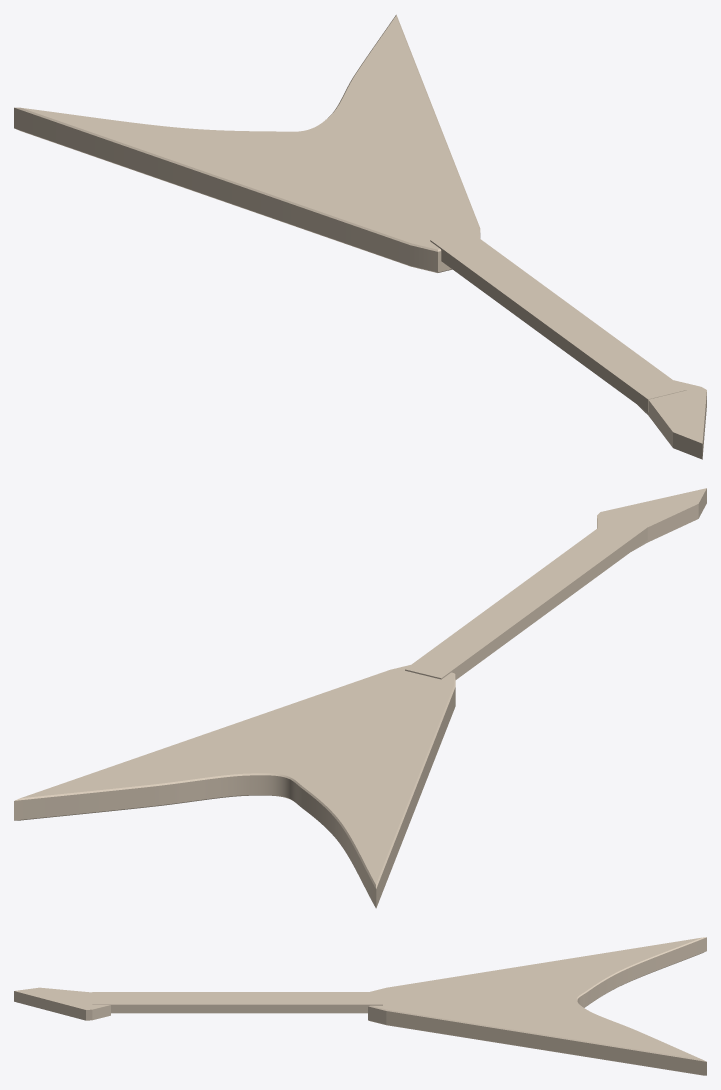
3 renders of one model, top to bottom at view 1: azimuth 30°, elevation 25°; view 2: azimuth 150°, elevation 25°; view 3: azimuth 270°, elevation 25°, orthographic. The views are drawn at different scales.
Parts seen in each view (by area): view 1: fork_guitar; view 2: fork_guitar; view 3: fork_guitar.
Boxes of the visible parts, x1,y1,x2,y2 form: fork_guitar: (14,14,706,459); fork_guitar: (14,488,706,908); fork_guitar: (14,937,706,1075).
Bounding box in the file's own units: 0.4259 × 0.0265 × 1.
